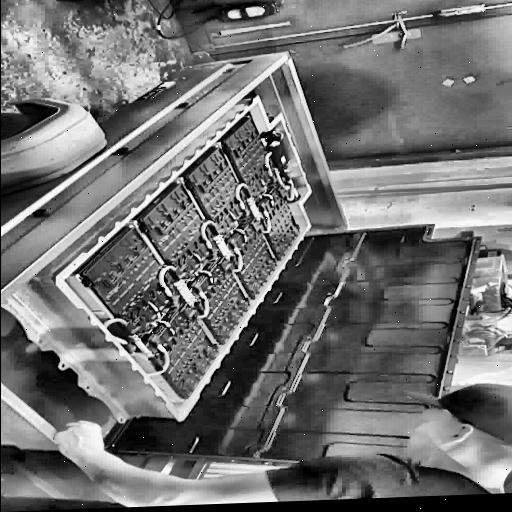b_casing: (112, 225, 480, 488)
